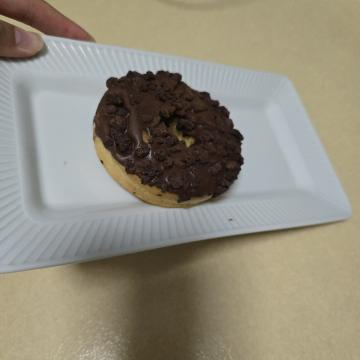doughnut: (62, 105, 222, 282)
